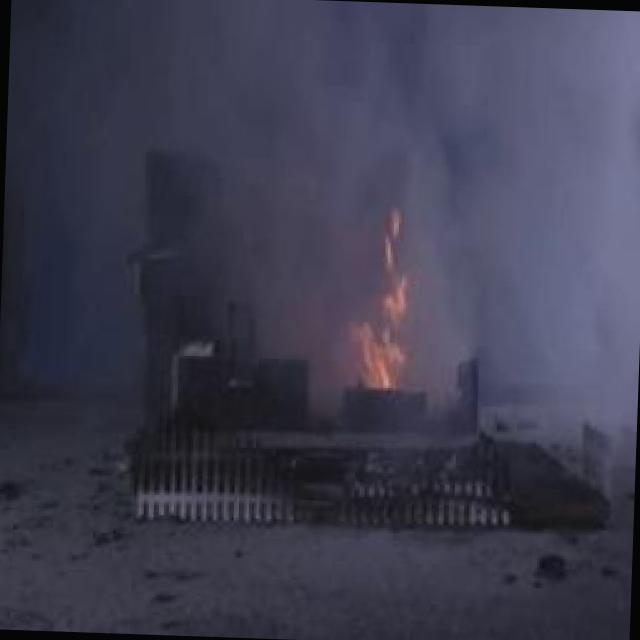fire: (324, 194, 441, 402)
smoke: (153, 0, 640, 259)
